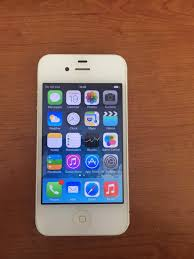iphone: (33, 50, 131, 239)
iphone4: (32, 49, 130, 238)
